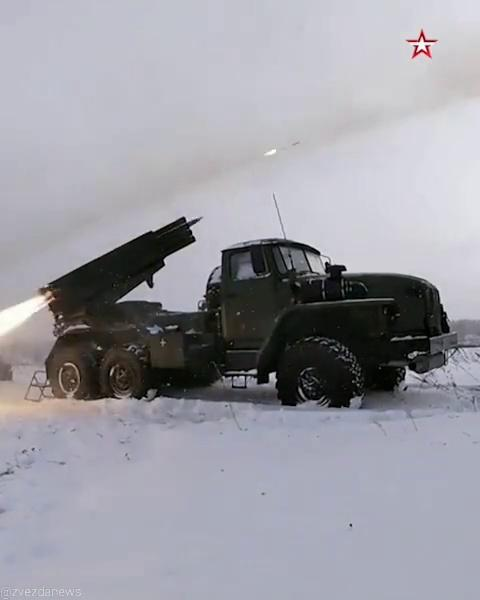MIL_SAM_TEL: (34, 214, 454, 404)
